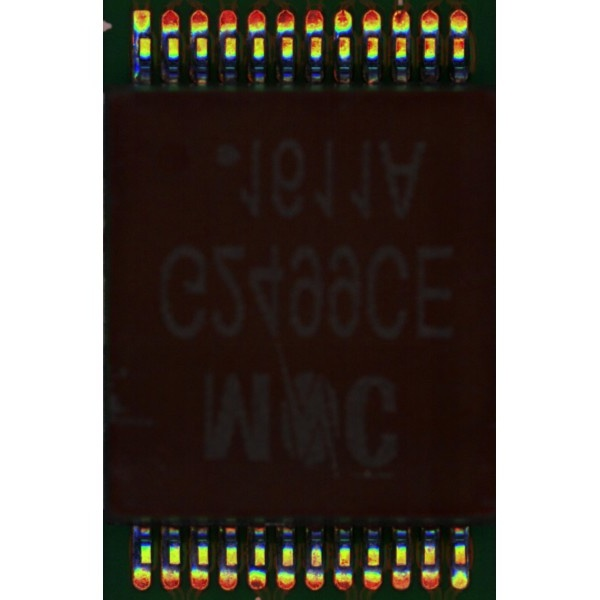Bad_qiaojiao: (133, 32, 139, 78)
